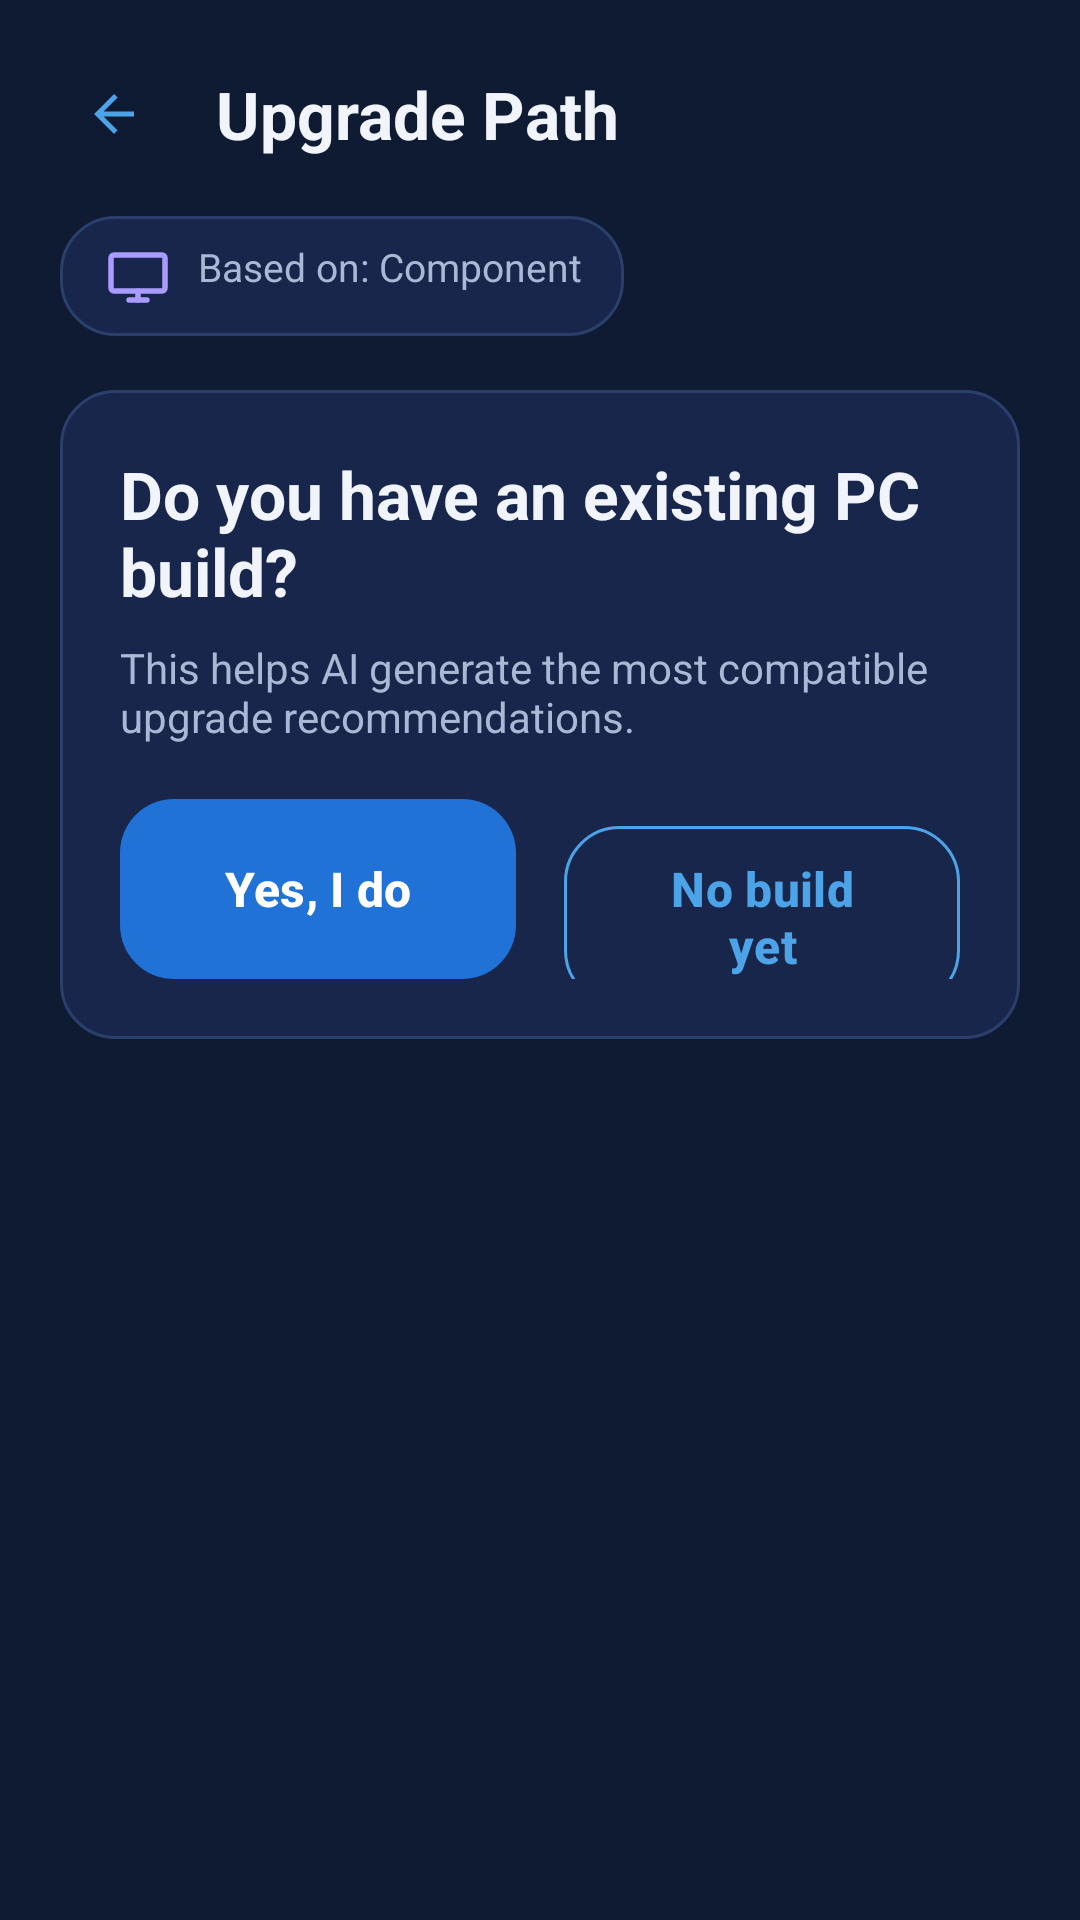

Named icons in this screenshot (1080 × 1920) and their centers, [x,y]:
arrow back: [114,114]
